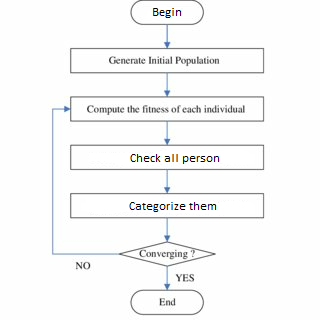arrow: (49, 105, 121, 256), (162, 22, 171, 48), (163, 265, 172, 291), (162, 215, 171, 240), (163, 118, 171, 145), (163, 168, 171, 194), (163, 70, 170, 98)
decision: (117, 240, 216, 268)
process: (68, 94, 266, 124), (68, 45, 266, 75), (68, 190, 265, 220), (67, 142, 266, 171)
terminator: (129, 288, 205, 317), (129, 1, 206, 26)
text: (85, 102, 246, 116), (106, 54, 220, 66), (126, 199, 218, 213), (128, 151, 220, 164), (138, 247, 197, 260), (151, 5, 182, 18), (174, 270, 196, 283), (157, 296, 176, 307), (73, 259, 92, 270)
